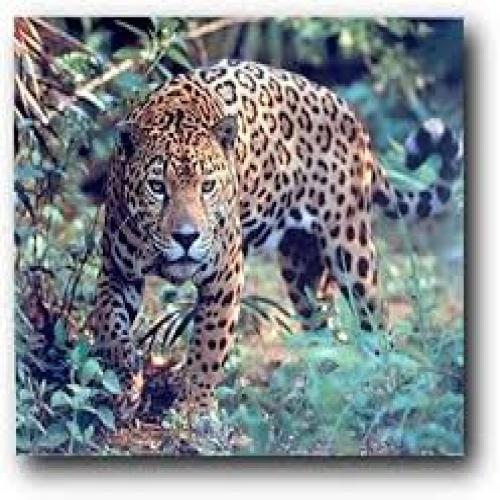jaguar_not-endangered: (97, 57, 462, 435)
